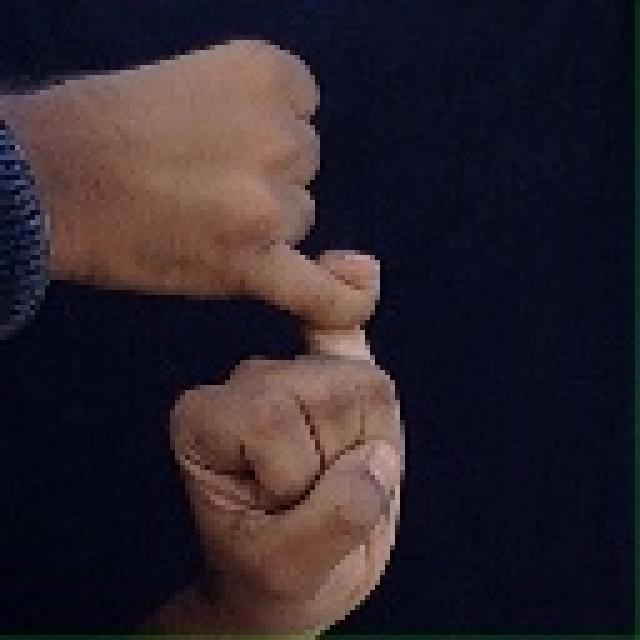Alphabet-S: (0, 29, 394, 638)
